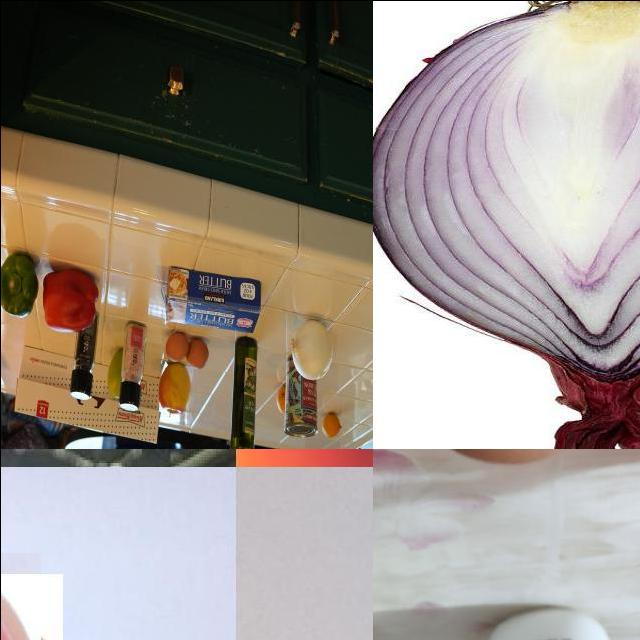bell_pepper: (39, 262, 97, 335), (69, 303, 100, 401), (1, 247, 38, 322)
egg: (160, 328, 188, 364), (191, 334, 209, 374)
onion: (373, 1, 640, 386), (289, 319, 343, 381)
